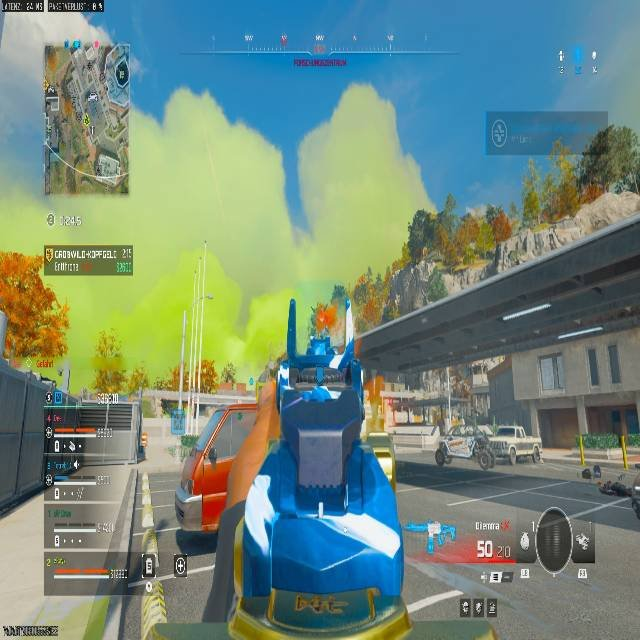player: (435, 439, 451, 467)
